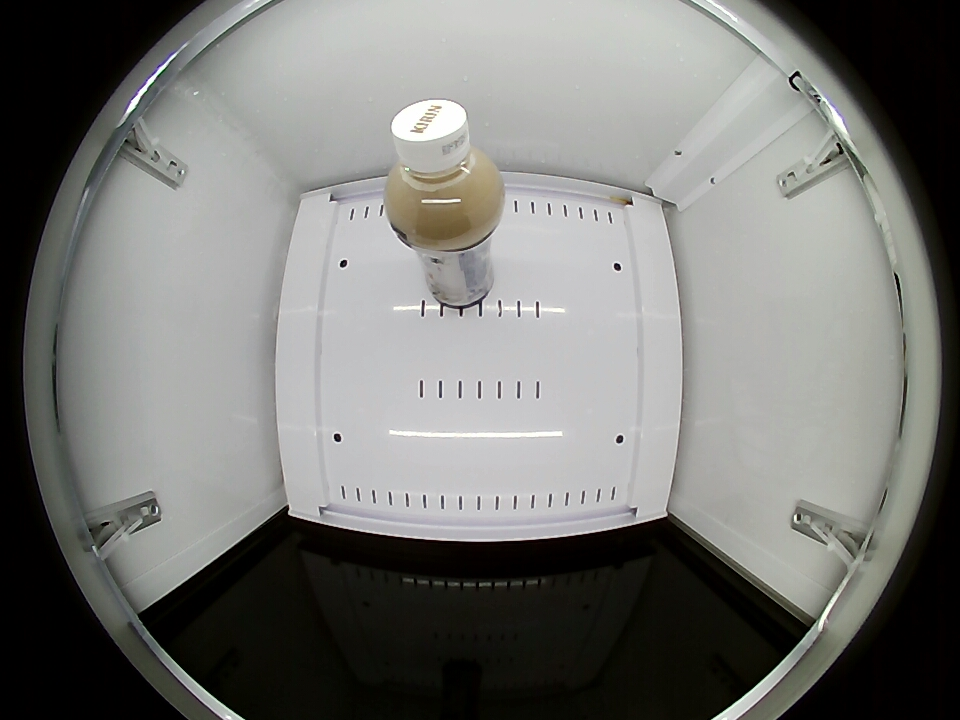wuhounaicha: (385, 98, 505, 246)
